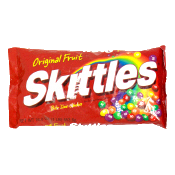grozi_38: (8, 45, 166, 128)
